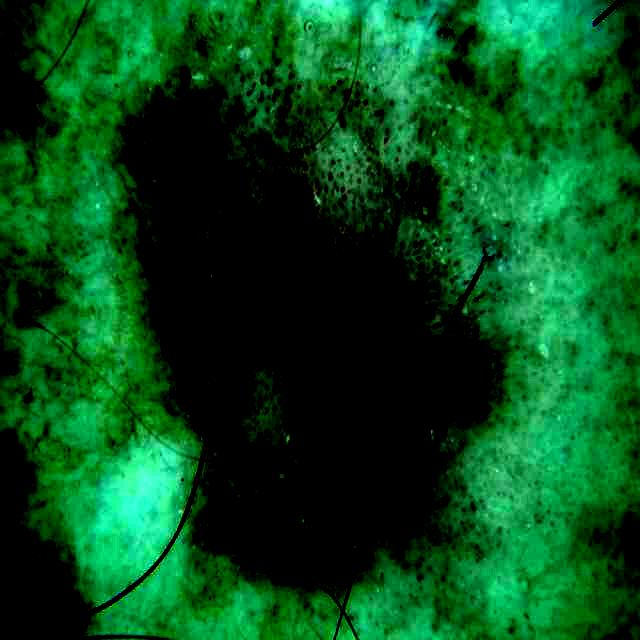AKIEC: (110, 28, 476, 483), (203, 314, 420, 592)
